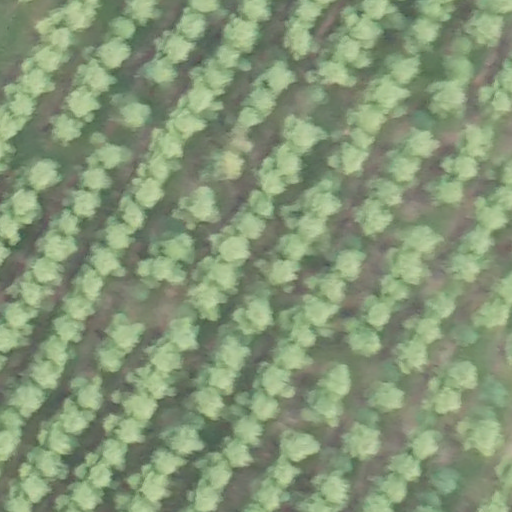eucalipto: (125, 364, 176, 401), (176, 186, 219, 228), (351, 196, 393, 238), (423, 81, 468, 120), (201, 254, 242, 295), (148, 231, 195, 266), (74, 451, 116, 490), (135, 255, 185, 287), (275, 427, 322, 461), (7, 376, 45, 418), (104, 311, 142, 353), (463, 9, 504, 47), (421, 377, 462, 415), (188, 278, 225, 320), (379, 147, 421, 184), (363, 377, 405, 414), (341, 422, 379, 461), (284, 115, 324, 152), (302, 391, 345, 425), (222, 13, 258, 53), (310, 60, 355, 92), (104, 412, 145, 447), (479, 374, 512, 417), (457, 124, 495, 161), (358, 292, 394, 331), (367, 76, 407, 111), (69, 372, 105, 410), (389, 249, 427, 285), (255, 153, 286, 196), (197, 451, 233, 488), (59, 398, 94, 436), (259, 363, 297, 398), (403, 221, 442, 255), (88, 243, 124, 279), (32, 445, 69, 480), (345, 321, 383, 355), (332, 246, 365, 285), (138, 464, 172, 501), (207, 150, 245, 183), (169, 316, 202, 354), (329, 31, 361, 70), (164, 423, 204, 454), (272, 339, 312, 370), (119, 392, 160, 422), (150, 339, 185, 374), (101, 217, 135, 253), (214, 337, 251, 370), (402, 127, 439, 160), (25, 159, 63, 191), (273, 145, 305, 183), (364, 174, 403, 205), (64, 482, 107, 510), (166, 108, 206, 138), (129, 173, 163, 208), (190, 384, 223, 420), (304, 185, 341, 217), (40, 230, 78, 261), (9, 189, 43, 223), (114, 197, 148, 231), (27, 355, 62, 388), (47, 419, 79, 455), (444, 254, 481, 285), (79, 62, 117, 92), (144, 149, 177, 183), (282, 27, 315, 61), (429, 178, 463, 211), (319, 362, 352, 396), (409, 312, 442, 346), (351, 102, 386, 134), (443, 359, 479, 390), (141, 57, 179, 86), (456, 227, 495, 255), (348, 17, 381, 50), (247, 389, 280, 422), (93, 343, 127, 375), (379, 273, 413, 305), (303, 294, 338, 325), (472, 299, 509, 328), (62, 1, 95, 33), (74, 266, 107, 298), (386, 53, 419, 85), (221, 436, 253, 469), (49, 113, 83, 144), (117, 99, 151, 130), (65, 88, 100, 118), (232, 414, 264, 446), (427, 465, 459, 497), (20, 67, 54, 97), (175, 11, 209, 41), (151, 445, 185, 475), (186, 485, 225, 511), (442, 153, 478, 181), (94, 141, 126, 172), (263, 62, 295, 93), (19, 470, 51, 501), (235, 211, 267, 242), (19, 277, 52, 307), (186, 81, 216, 114), (31, 254, 62, 285), (267, 258, 299, 288), (397, 342, 429, 372), (389, 452, 421, 482), (4, 301, 37, 330), (55, 315, 86, 345), (277, 233, 308, 263), (244, 88, 276, 117), (205, 367, 237, 396), (297, 215, 330, 243), (484, 84, 512, 117), (318, 477, 351, 505), (339, 142, 366, 176), (407, 432, 441, 459), (41, 335, 71, 365), (252, 484, 288, 509), (161, 33, 192, 62), (245, 298, 273, 330), (423, 291, 455, 319), (217, 236, 251, 262), (7, 89, 37, 118), (204, 59, 234, 88), (412, 18, 441, 48), (269, 460, 300, 488), (98, 41, 130, 68), (102, 439, 129, 471), (325, 450, 357, 477), (475, 204, 508, 230), (1, 406, 26, 440), (441, 55, 475, 80), (247, 190, 276, 219), (380, 473, 408, 503), (213, 45, 245, 71), (155, 132, 187, 158), (72, 189, 101, 217), (53, 207, 81, 236), (318, 276, 347, 304), (80, 167, 112, 192), (125, 1, 158, 25), (418, 1, 454, 23), (66, 293, 95, 320), (291, 1, 326, 23), (35, 47, 65, 72), (235, 106, 262, 133), (239, 1, 272, 23), (358, 1, 392, 22), (1, 213, 22, 246), (448, 325, 479, 347), (291, 323, 317, 349), (110, 14, 135, 41), (413, 491, 445, 512), (354, 404, 379, 430), (346, 125, 373, 149), (1, 427, 20, 460), (408, 107, 434, 131), (47, 27, 75, 49), (1, 327, 23, 354), (380, 358, 403, 383), (362, 494, 393, 512), (417, 406, 439, 430), (449, 36, 473, 56), (188, 1, 219, 16), (344, 231, 363, 251)
